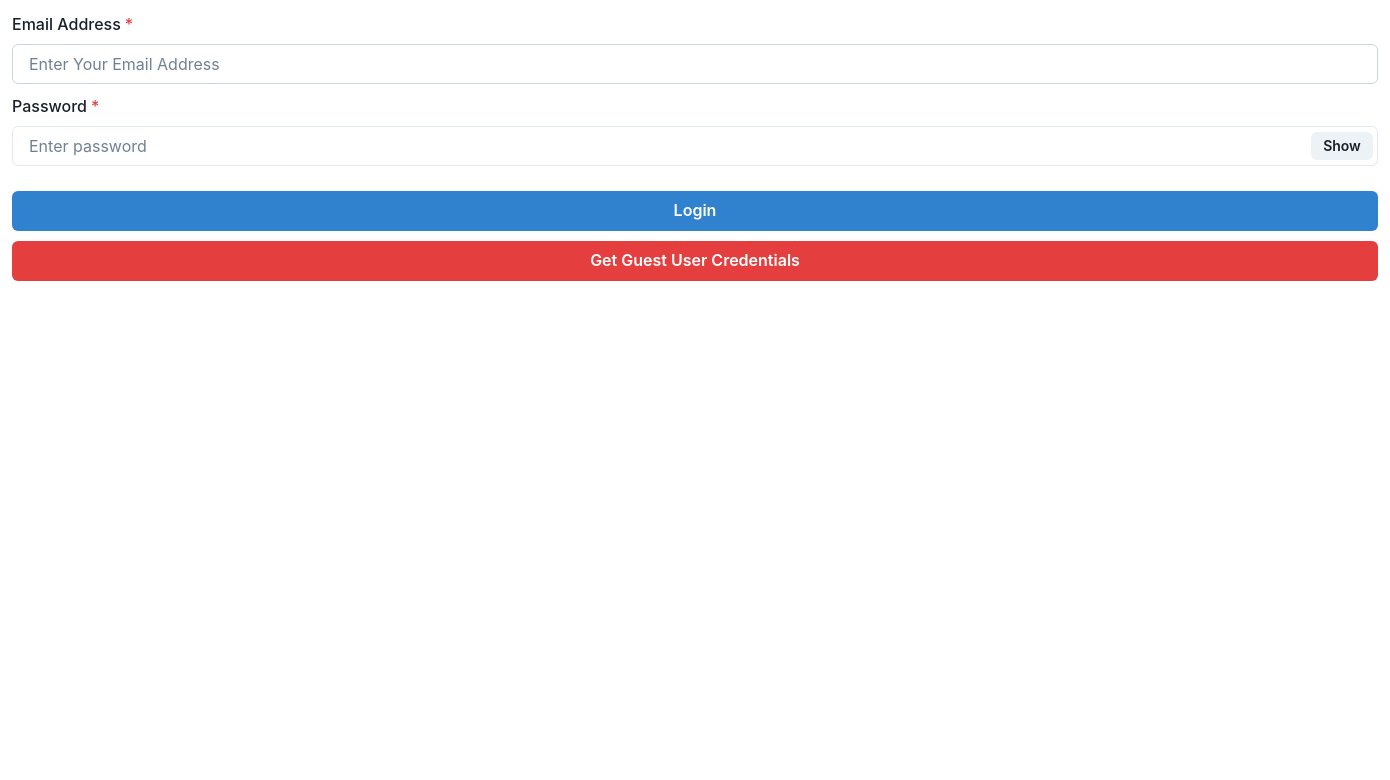
Test: Login Component › should show warning if fields are empty on submit
Click the button "Login" at point(695, 211), box top-left (12, 191), bottom-right (1378, 231)
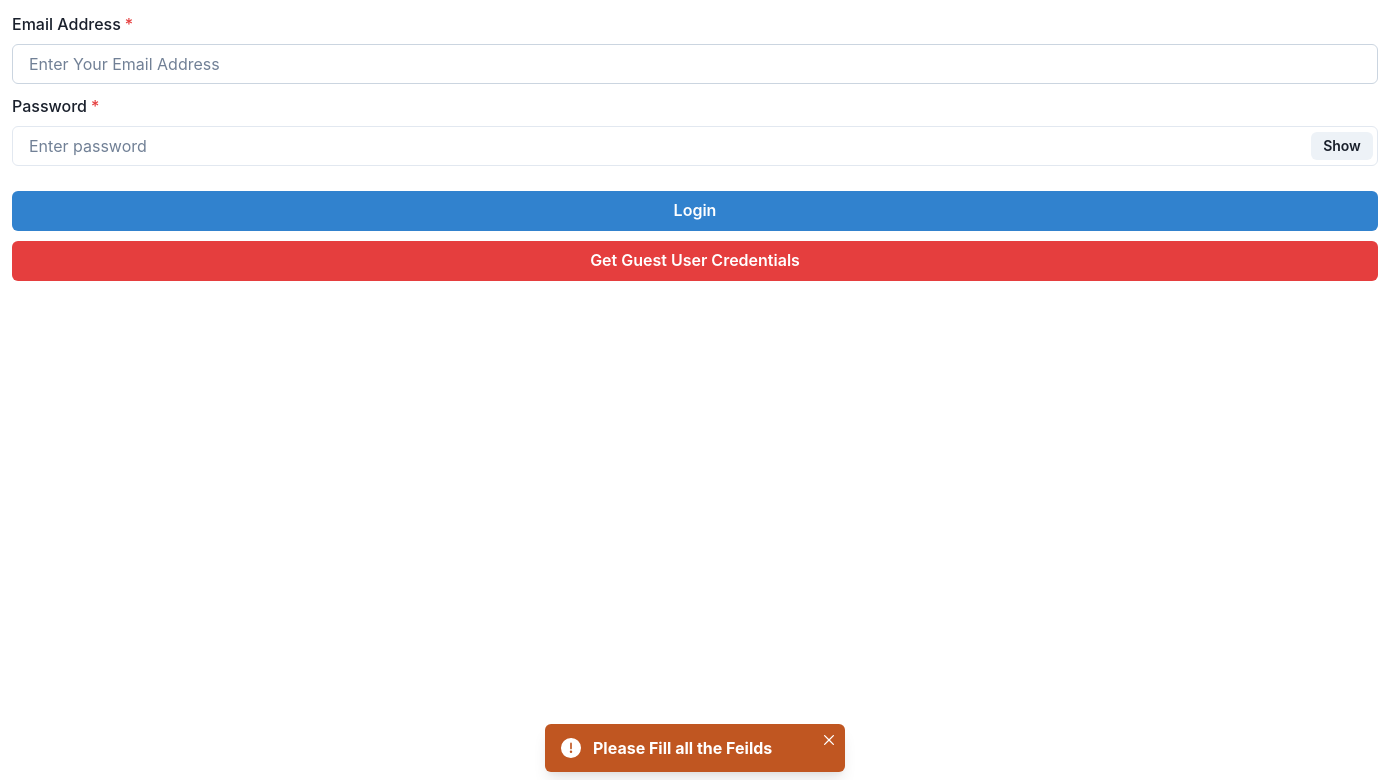
Now the text "Please Fill all the Feilds" is shown, box top-left (593, 738), bottom-right (772, 758)
